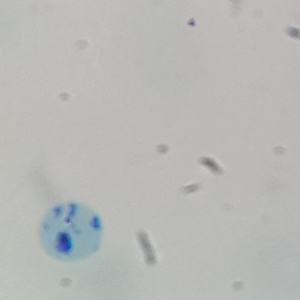aggregate reticulocyte: (34, 200, 105, 263)
